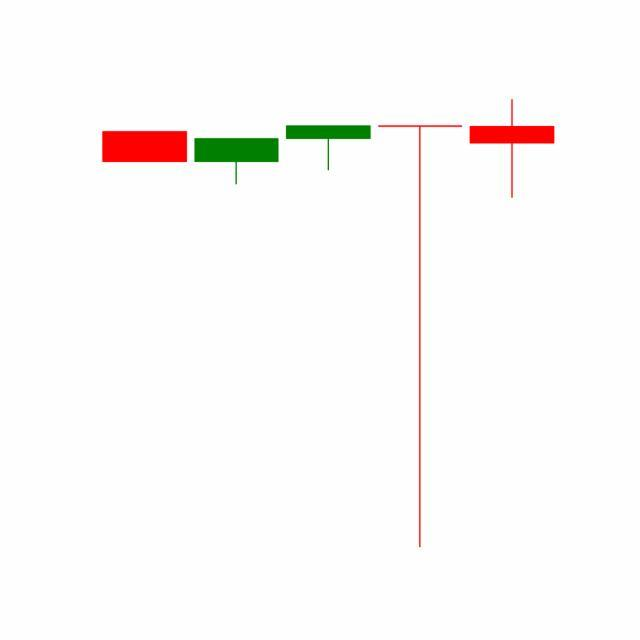Spinning Top: (466, 98, 559, 201)
